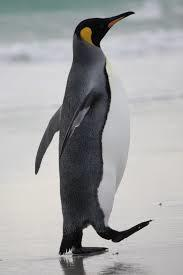king: (31, 0, 162, 271)
